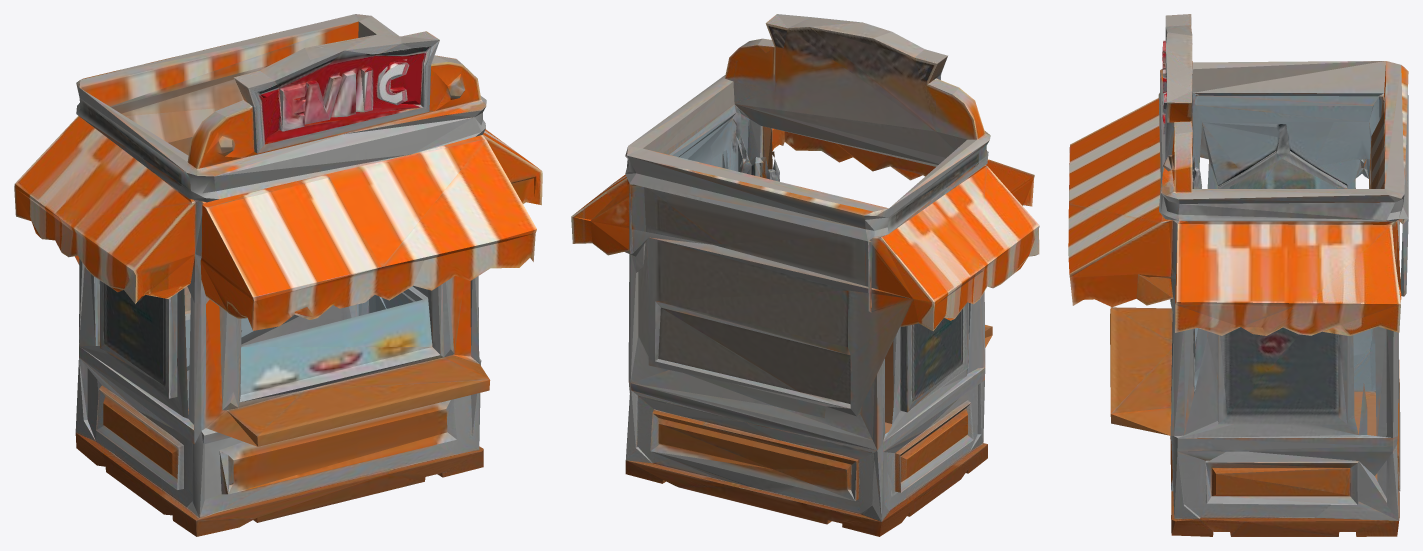
Rendered from kiosk.glb.
3 views of the same model, side by side, from view 1: azimuth 30°, elevation 25°; view 2: azimuth 150°, elevation 25°; view 3: azimuth 270°, elevation 25° (orthographic). The views are drawn at different scales.
Size of the model in its own units: 1.79 by 1.9 by 1.38.
Materials: 1 (1 with a texture image).
